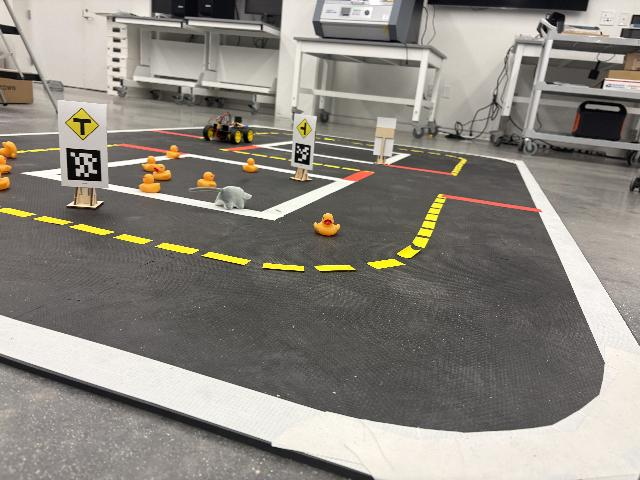duck: (313, 212, 341, 236), (140, 174, 161, 193), (153, 163, 175, 180), (0, 141, 18, 161), (196, 171, 218, 186), (241, 158, 259, 173), (0, 155, 11, 176), (142, 155, 156, 171), (0, 174, 11, 191), (166, 145, 181, 157)
l_intersection: (292, 113, 317, 185)
mouse: (190, 185, 254, 211)
redline: (446, 190, 537, 215), (390, 164, 454, 179), (118, 136, 167, 155), (157, 127, 198, 142), (339, 172, 380, 179), (220, 147, 266, 152)
t_intersection: (57, 100, 107, 208)
whiteline: (0, 306, 559, 480), (538, 195, 640, 480), (259, 183, 346, 211), (111, 184, 188, 209), (187, 153, 239, 168), (23, 171, 59, 179), (108, 161, 144, 166)
yellowline: (1, 206, 126, 255), (126, 230, 253, 273), (470, 145, 550, 191), (394, 199, 448, 255), (254, 257, 404, 277), (242, 151, 290, 162), (319, 136, 370, 146), (317, 160, 359, 172), (434, 151, 465, 162), (396, 145, 432, 154), (19, 148, 57, 153), (454, 164, 467, 174), (106, 145, 121, 150)
